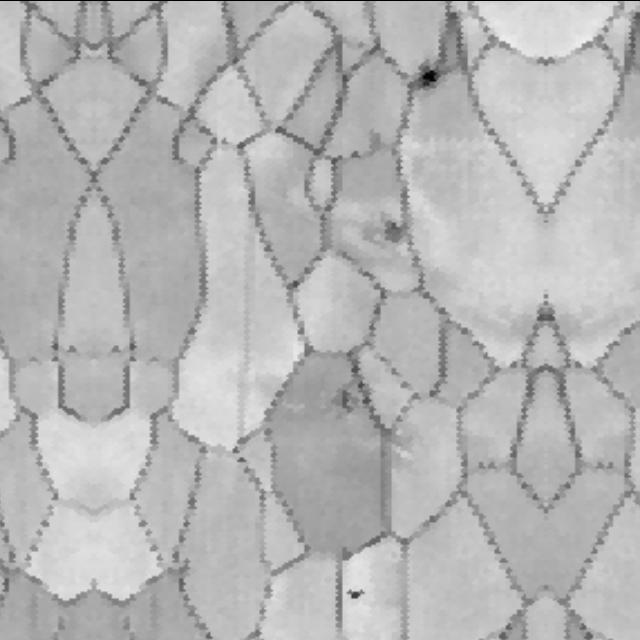good_void: (326, 380, 359, 417), (416, 64, 444, 88), (382, 218, 407, 244), (343, 586, 365, 599), (108, 343, 122, 352), (64, 343, 78, 352)
